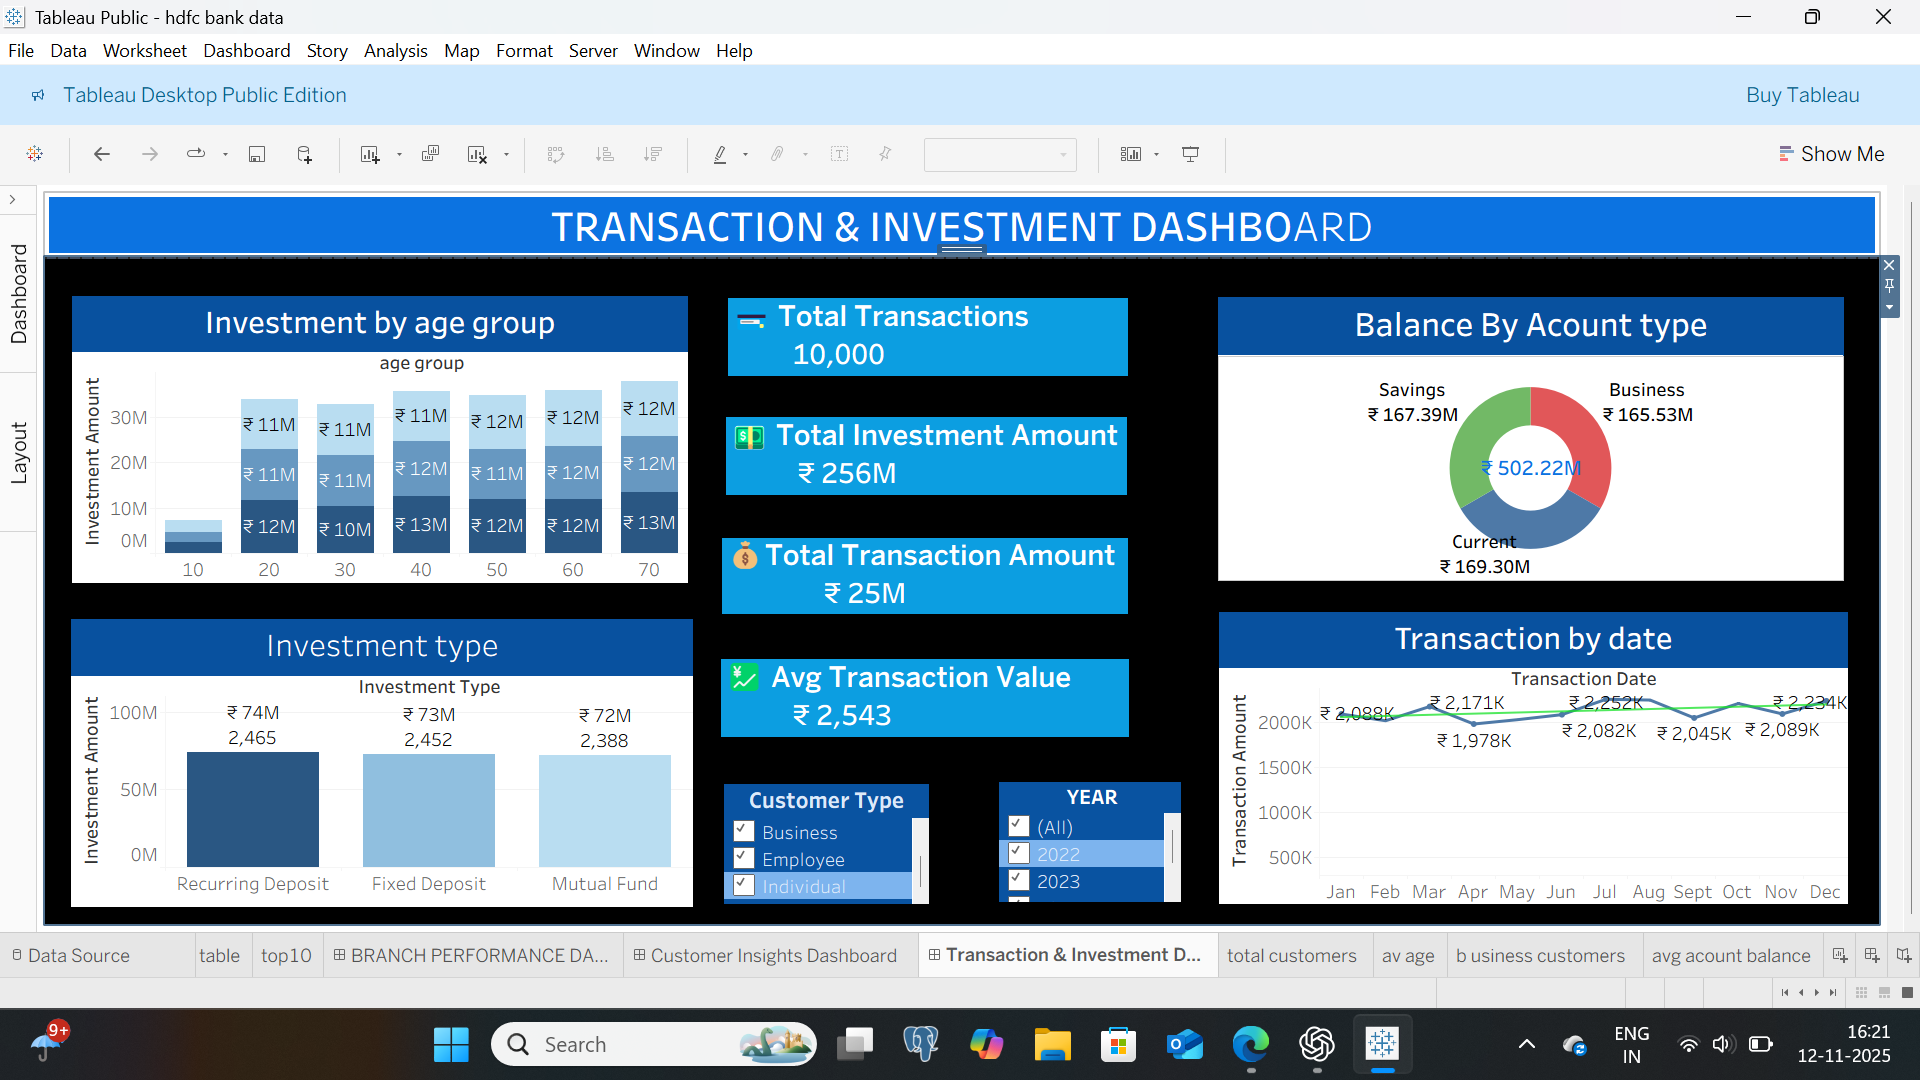

Layout of this report page (visuals, bound fields, positions):
{"tool":"tableau","page":{"name":"Transaction & Investment Dashboard","canvas":[1000,1000],"units":"permille","ordinal":2},"visuals":[{"type":"title","box":[4.3,10.7,991.4,84.3]},{"type":"worksheet","title":"total transaction","mark":"Automatic","box":[373.2,131.4,246.2,130]},{"type":"worksheet","title":"investment by age","mark":"Automatic","rows":["Investment_Amount"],"cols":["Age (bin) 2"],"box":[18.8,148.8,333.1,384.7]},{"type":"worksheet","title":"Acount type","mark":"Pie","cols":["Calculation_1108166988731858954","Calculation_1108166988731912204"],"box":[638.3,150.1,338.6,380.7]},{"type":"worksheet","title":"investment amnt","mark":"Automatic","box":[372.6,290.9,257.1,142.1]},{"type":"worksheet","title":"TRANSACTION AMOUNT","mark":"Automatic","box":[370.2,453.1,279.6,140.8]},{"type":"worksheet","title":"Transaction by date","mark":"Automatic","rows":["Transaction_Amount"],"cols":["Transaction_Date"],"box":[638.9,571.1,339.8,391.4]},{"type":"worksheet","title":"Investment type","mark":"Automatic","rows":["Investment_Amount"],"cols":["Investment_Type"],"box":[18.2,580.4,336.2,386.1]},{"type":"worksheet","title":"avg transacion","mark":"Automatic","box":[369.6,613.9,249.8,170.2]},{"type":"filter","title":"Transaction by date","param":"[federated.0t0zz2c0ga5ase12rky6705l929b].[yr:Transaction_Date:ok]","box":[519.8,798.9,98.5,160.9]},{"type":"filter","title":"Investment type","param":"[federated.0t0zz2c0ga5ase12rky6705l929b].[none:Customer_Type:nk]","box":[371.4,801.6,110.6,160.9]}]}

Visuals, with their boxes on the dashboard's canvas, which has no fixed pixel size, in thousandths of its width and height (x1, y1, x2, y2). These are canvas units, not pixel positions in the 1920x1080 screenshot, which may show the page scaled, cropped or inside an application window:
title: (x1=4, y1=11, x2=996, y2=95)
"total transaction" worksheet: (x1=373, y1=131, x2=619, y2=261)
"investment by age" worksheet: (x1=19, y1=149, x2=352, y2=534)
"Acount type" worksheet (Pie marks): (x1=638, y1=150, x2=977, y2=531)
"investment amnt" worksheet: (x1=373, y1=291, x2=630, y2=433)
"TRANSACTION AMOUNT" worksheet: (x1=370, y1=453, x2=650, y2=594)
"Transaction by date" worksheet: (x1=639, y1=571, x2=979, y2=962)
"Investment type" worksheet: (x1=18, y1=580, x2=354, y2=966)
"avg transacion" worksheet: (x1=370, y1=614, x2=619, y2=784)
"Transaction by date" filter: (x1=520, y1=799, x2=618, y2=960)
"Investment type" filter: (x1=371, y1=802, x2=482, y2=962)
